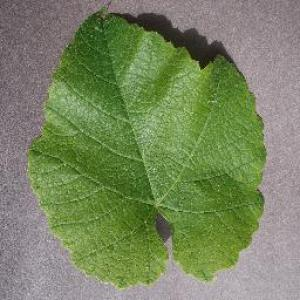Folha: (26, 3, 267, 290)
